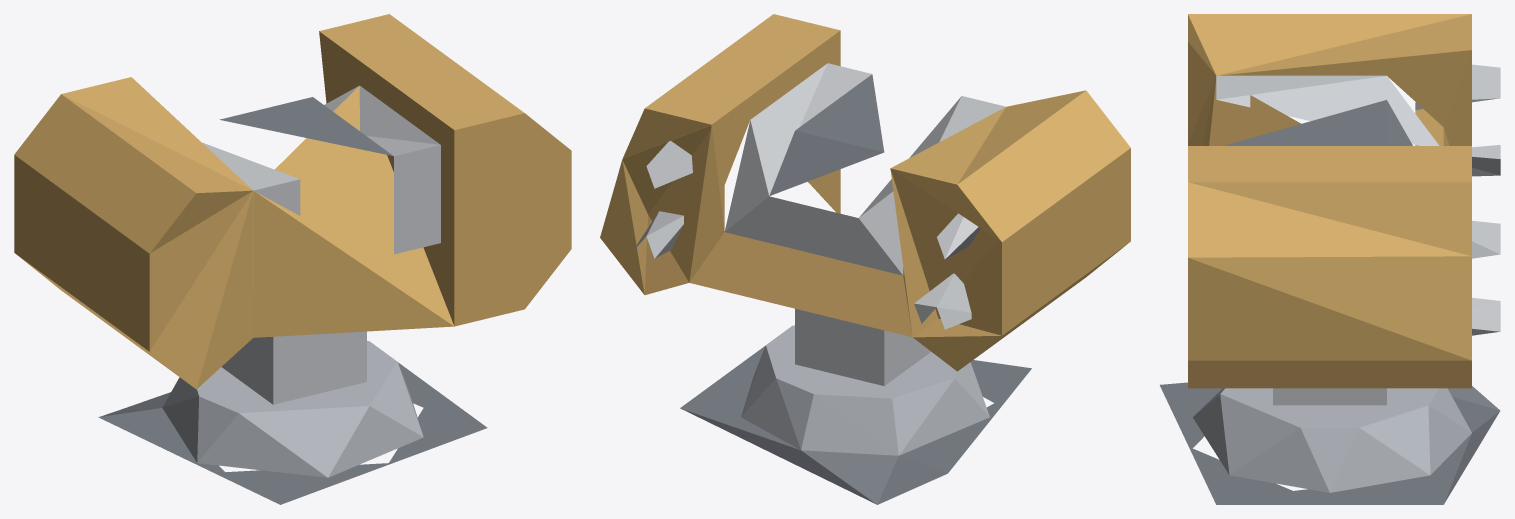
Rendered from turret_double.lod.glb.
3 renders of one model, left to right at view 1: azimuth 30°, elevation 25°; view 2: azimuth 150°, elevation 25°; view 3: azimuth 270°, elevation 25°, orthographic. The views are drawn at different scales.
Parts seen in each view (by area): view 1: turret, turret_double; view 2: turret, turret_double; view 3: turret, turret_double.
Part boxes in pixels (box(x1,y1,x2,y2)): turret: box(14, 14, 571, 389); turret_double: box(98, 85, 487, 504); turret: box(600, 14, 1130, 371); turret_double: box(632, 63, 1031, 504); turret: box(1188, 14, 1471, 388); turret_double: box(1159, 64, 1500, 504).
Bounding box in the file's own units: 0.9 × 0.7 × 0.6.
